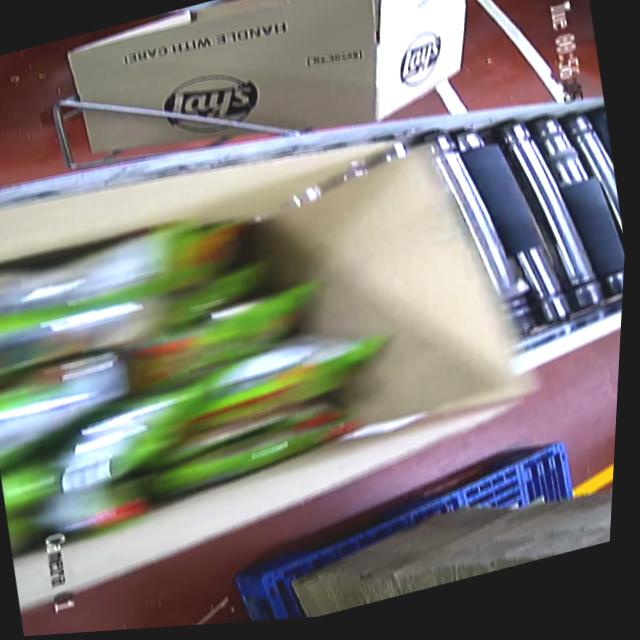YOGURT_HERB: (0, 190, 351, 550)
